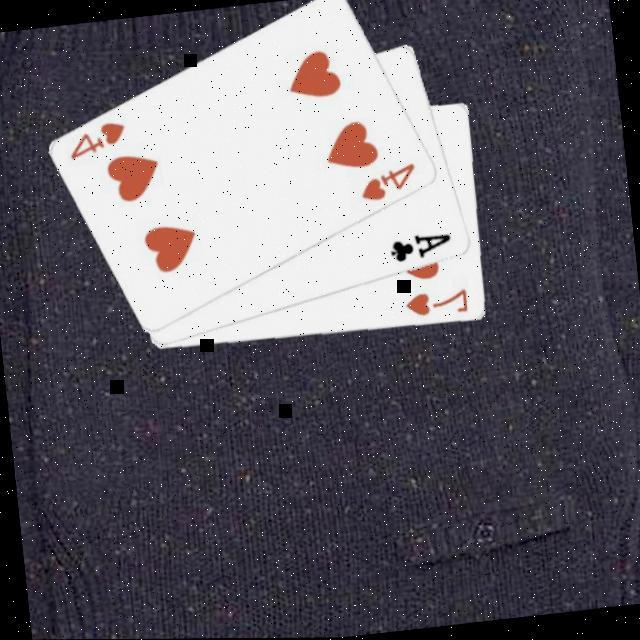4H: (62, 119, 130, 165), (354, 161, 420, 207)
7H: (400, 288, 472, 324)
AC: (384, 230, 456, 269)
